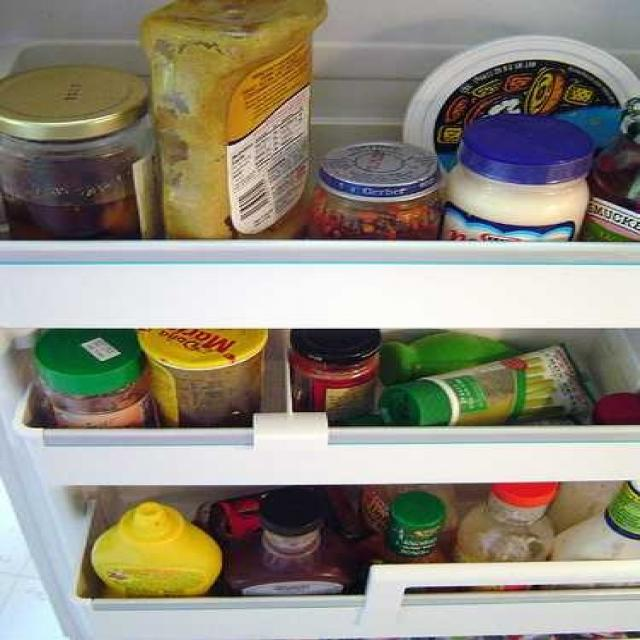refrigerator: (20, 317, 640, 640)
